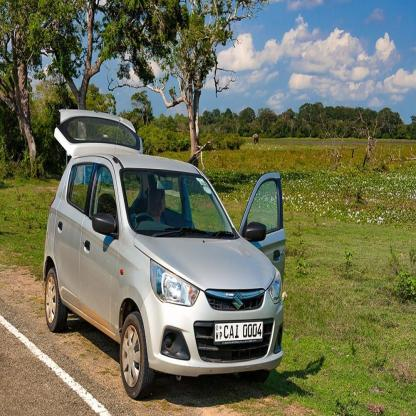car front: (42, 102, 289, 400)
number plate: (212, 322, 263, 344)
